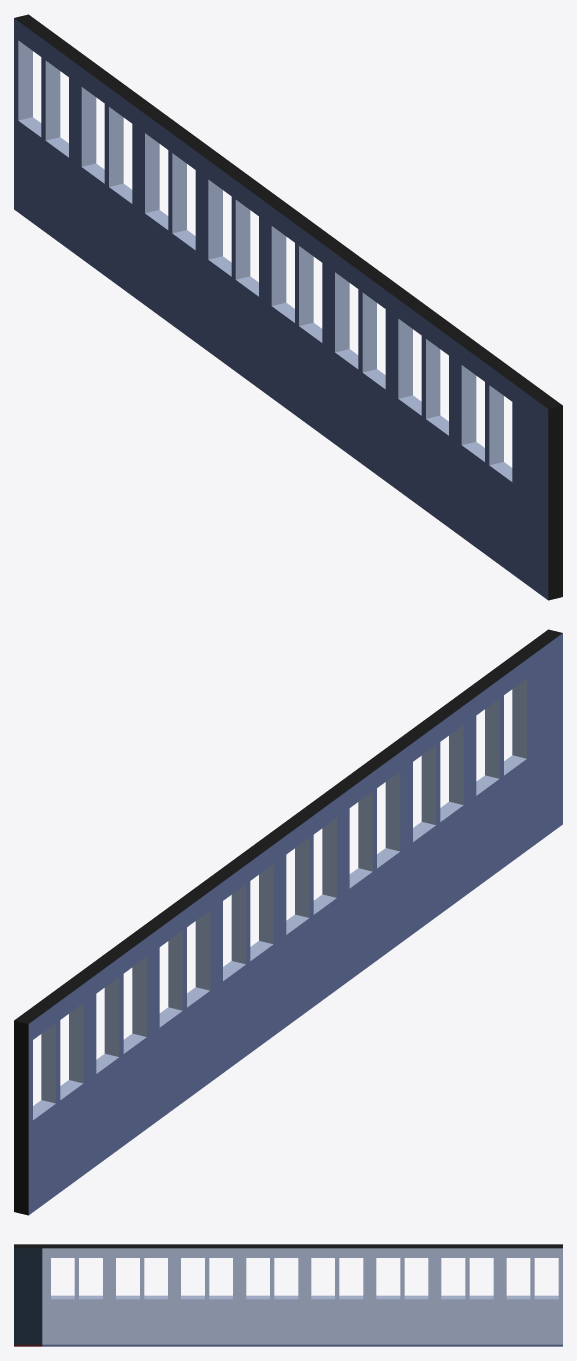
File: office_left_exterior_wall.fbx
3 views of the same model, one above another, from view 1: azimuth 30°, elevation 25°; view 2: azimuth 150°, elevation 25°; view 3: azimuth 270°, elevation 25° (orthographic). The views are drawn at different scales.
Parts seen in each view (by area): view 1: office_left_exterior_wall; view 2: office_left_exterior_wall; view 3: office_left_exterior_wall.
Boxes of the visible parts, x1,y1,x2,y2 form: office_left_exterior_wall: [14, 14, 562, 600]; office_left_exterior_wall: [14, 629, 562, 1215]; office_left_exterior_wall: [14, 1244, 562, 1346].
Bounding box in the file's own units: 0.4 × 25.3 × 5.
